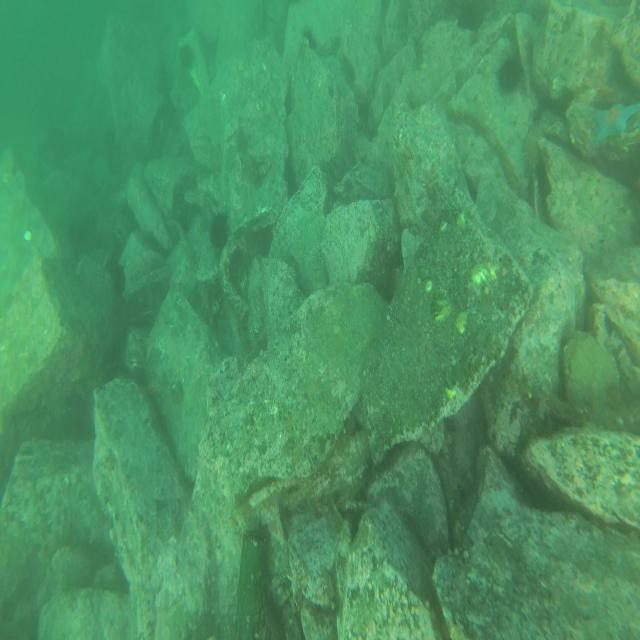echinus: (522, 117, 548, 170), (497, 47, 523, 91), (206, 209, 230, 246)
starfish: (589, 96, 639, 148)
